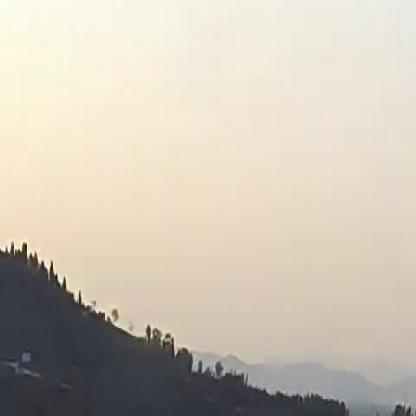other: (4, 139, 123, 329)
